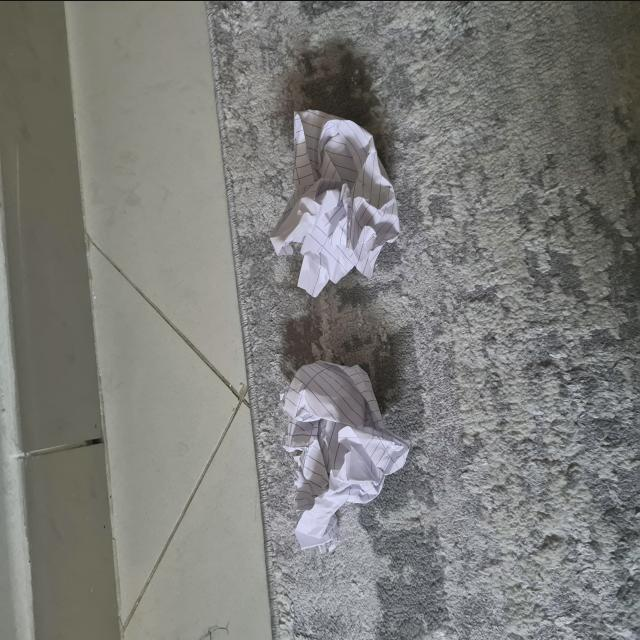Paper: (248, 360, 418, 571), (249, 103, 403, 305)
